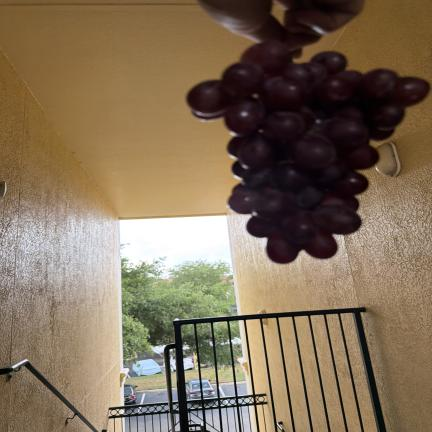grape_cluster: (187, 43, 429, 263)
